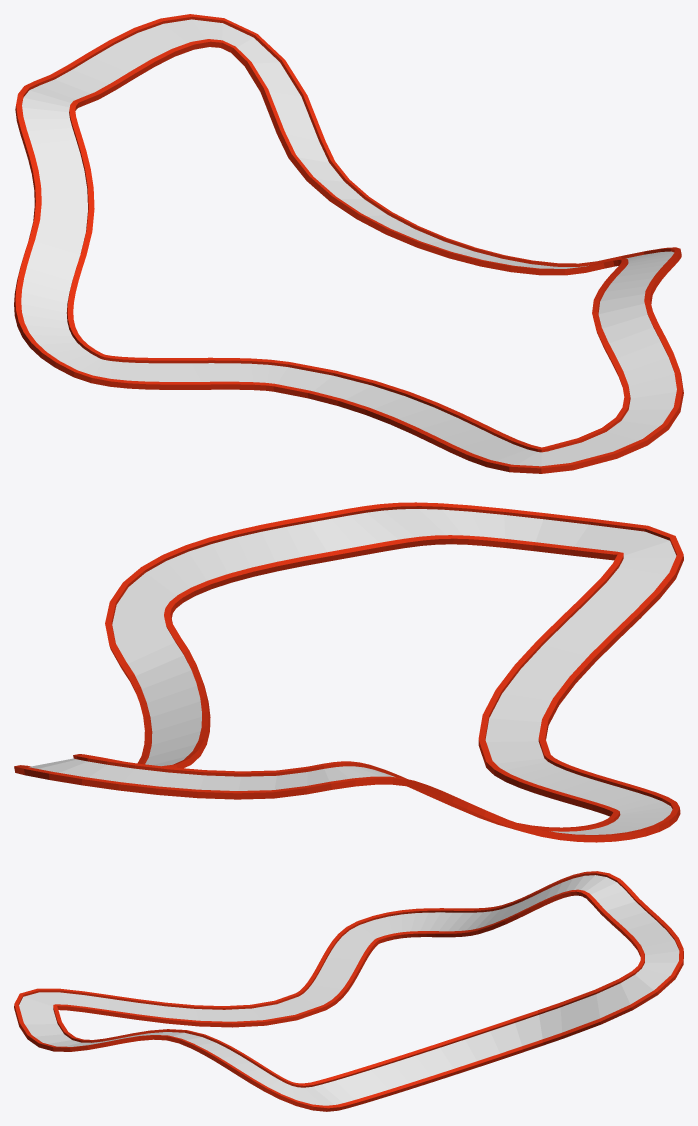
Rendered from TestTrack_2.fbx.
3 renders of one model, top to bottom at view 1: azimuth 30°, elevation 25°; view 2: azimuth 150°, elevation 25°; view 3: azimuth 270°, elevation 25°, orthographic. The views are drawn at different scales.
Visible parts, largest first — view 1: BezierCircle.001; view 2: BezierCircle.001; view 3: BezierCircle.001.
Boxes of the visible parts, bbox=[...] form: BezierCircle.001: bbox=[14, 14, 683, 473]; BezierCircle.001: bbox=[14, 502, 683, 842]; BezierCircle.001: bbox=[14, 871, 683, 1111].
Bounding box in the file's own units: 2178 × 558 × 3082.
